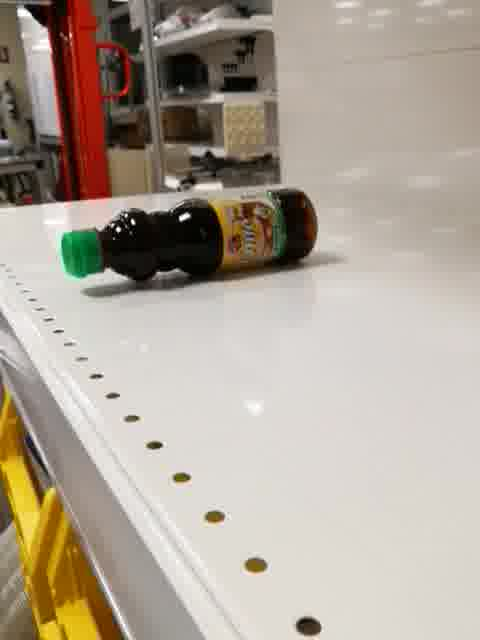cookingoil: (57, 184, 320, 283)
